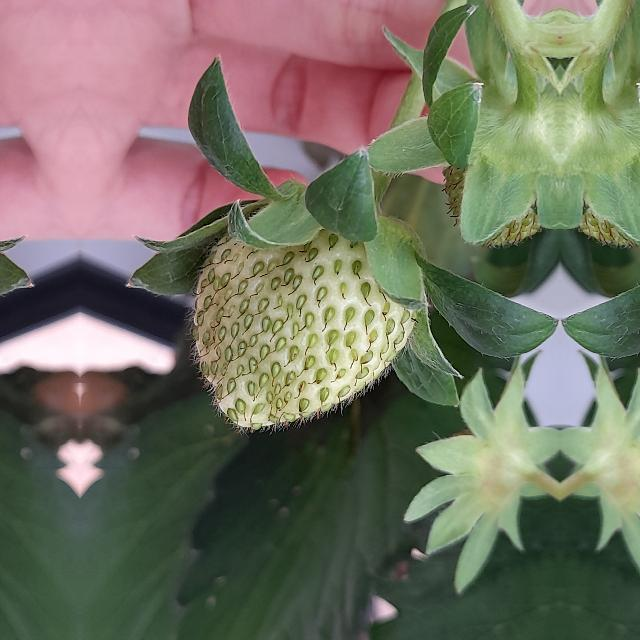Health_25: (184, 185, 424, 437)
